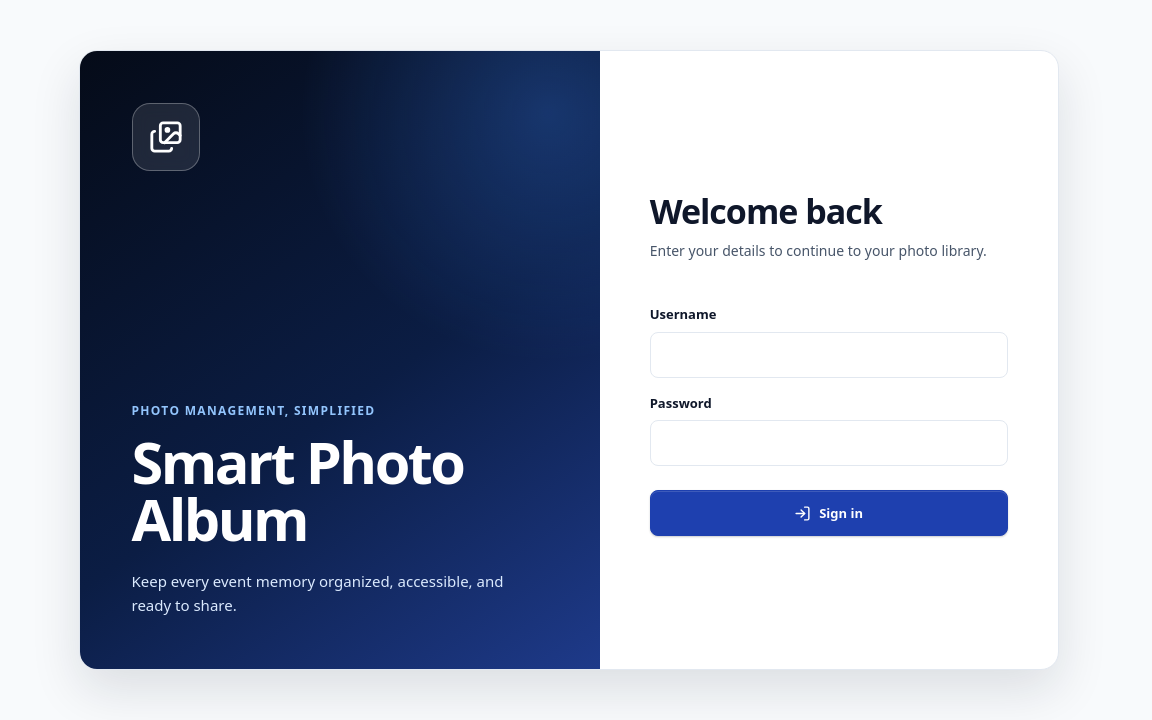
Test: shows an error when credentials are rejected
In the field labelled "Username": [829, 355] box [650, 332, 1008, 378], type "test"
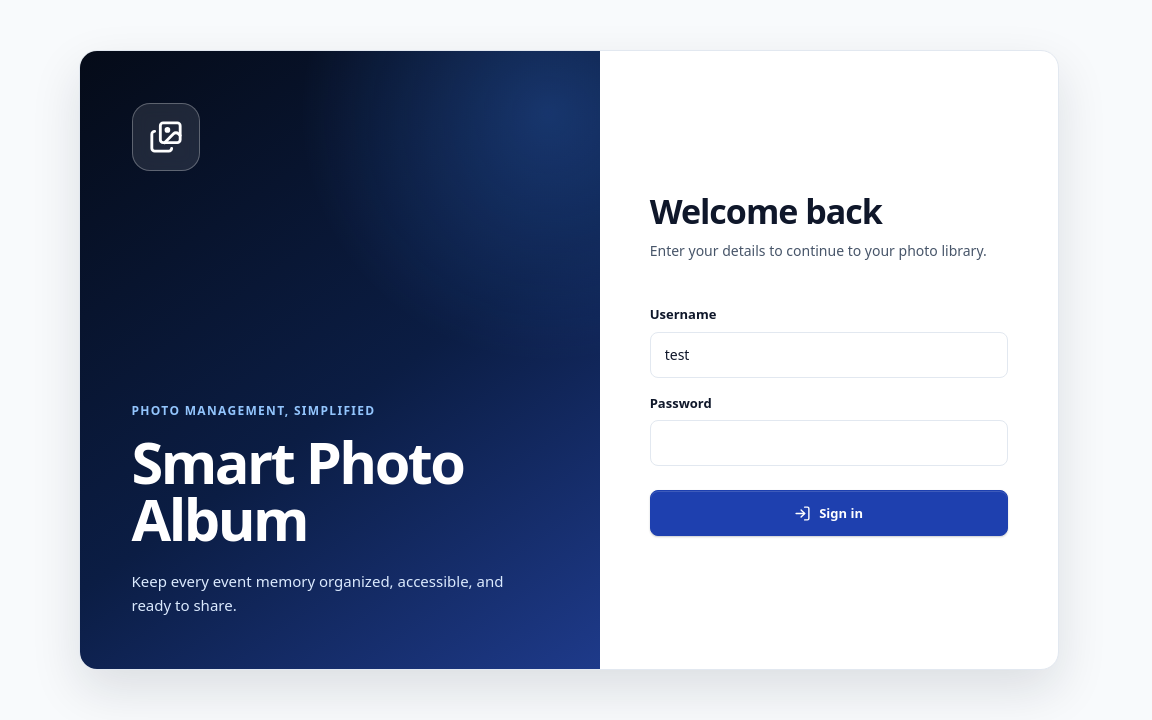
In the password field labelled "Password": [829, 443] box [650, 420, 1008, 466], type "wrong"
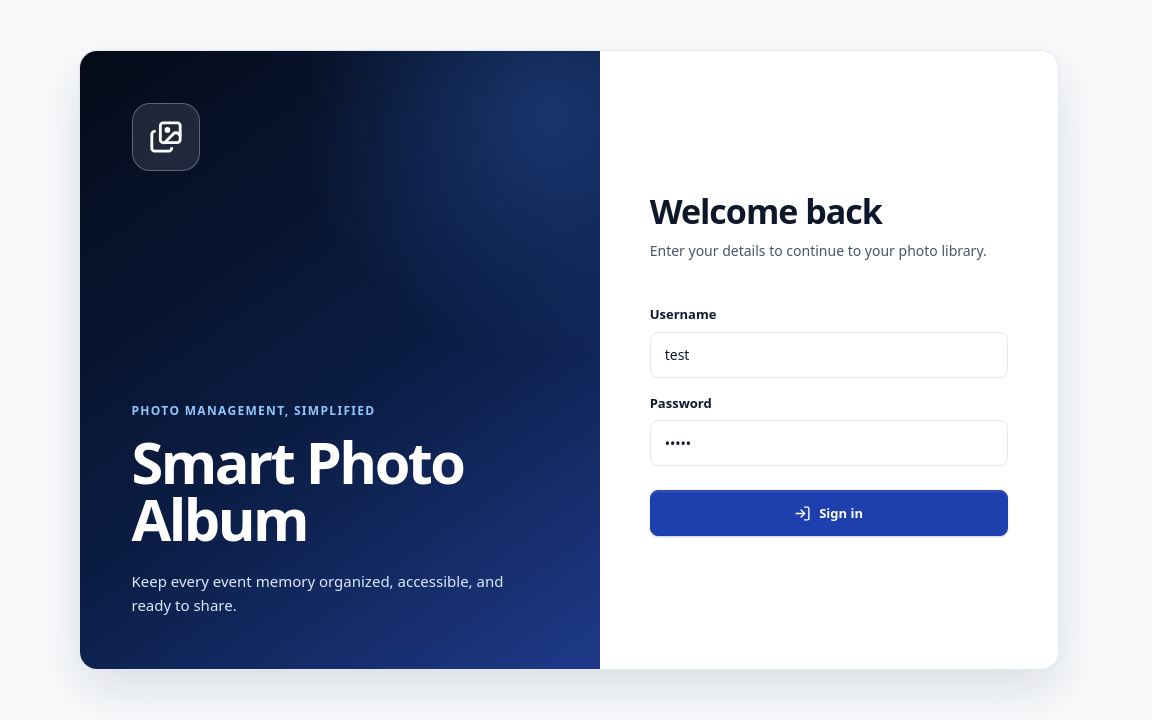
Click the button "Sign in": [829, 513] box [650, 490, 1008, 536]
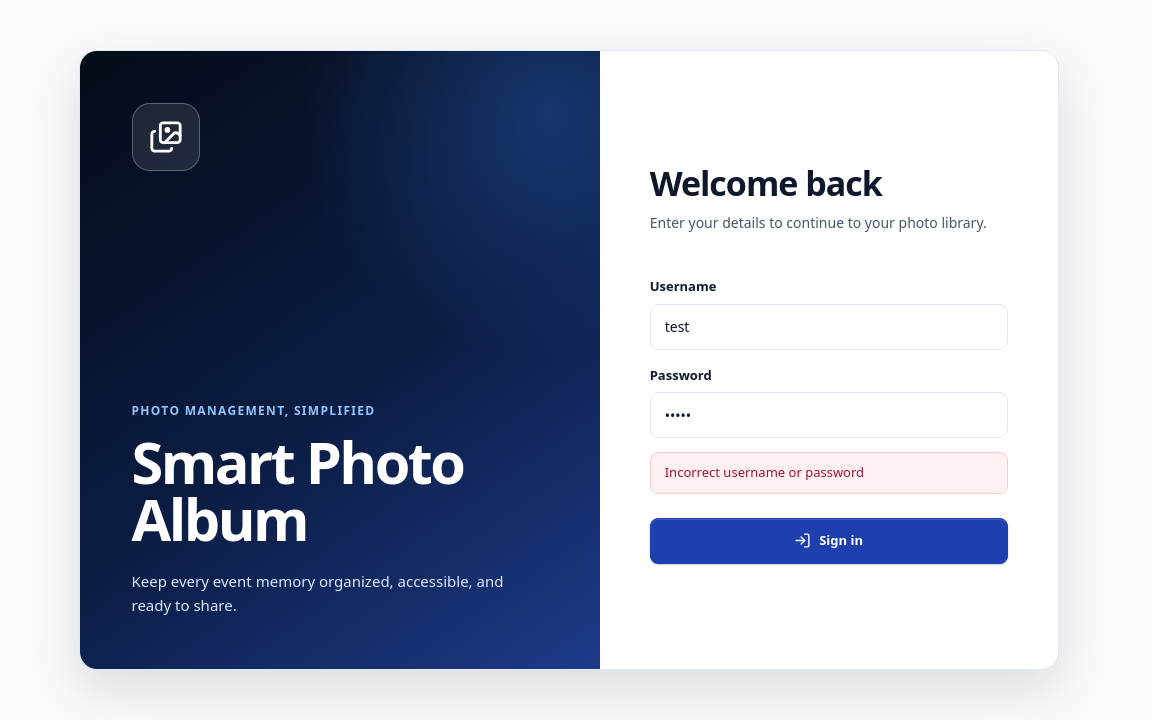
expect the message reads "Incorrect username or password": met, box [665, 463, 864, 481]
